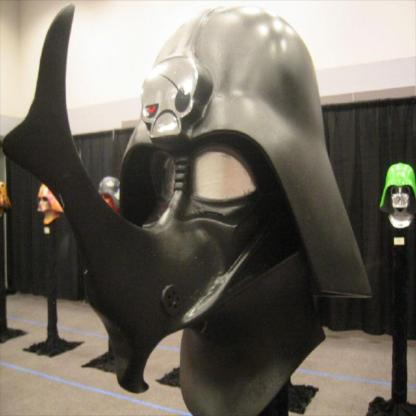Helmet: (48, 26, 369, 386)
